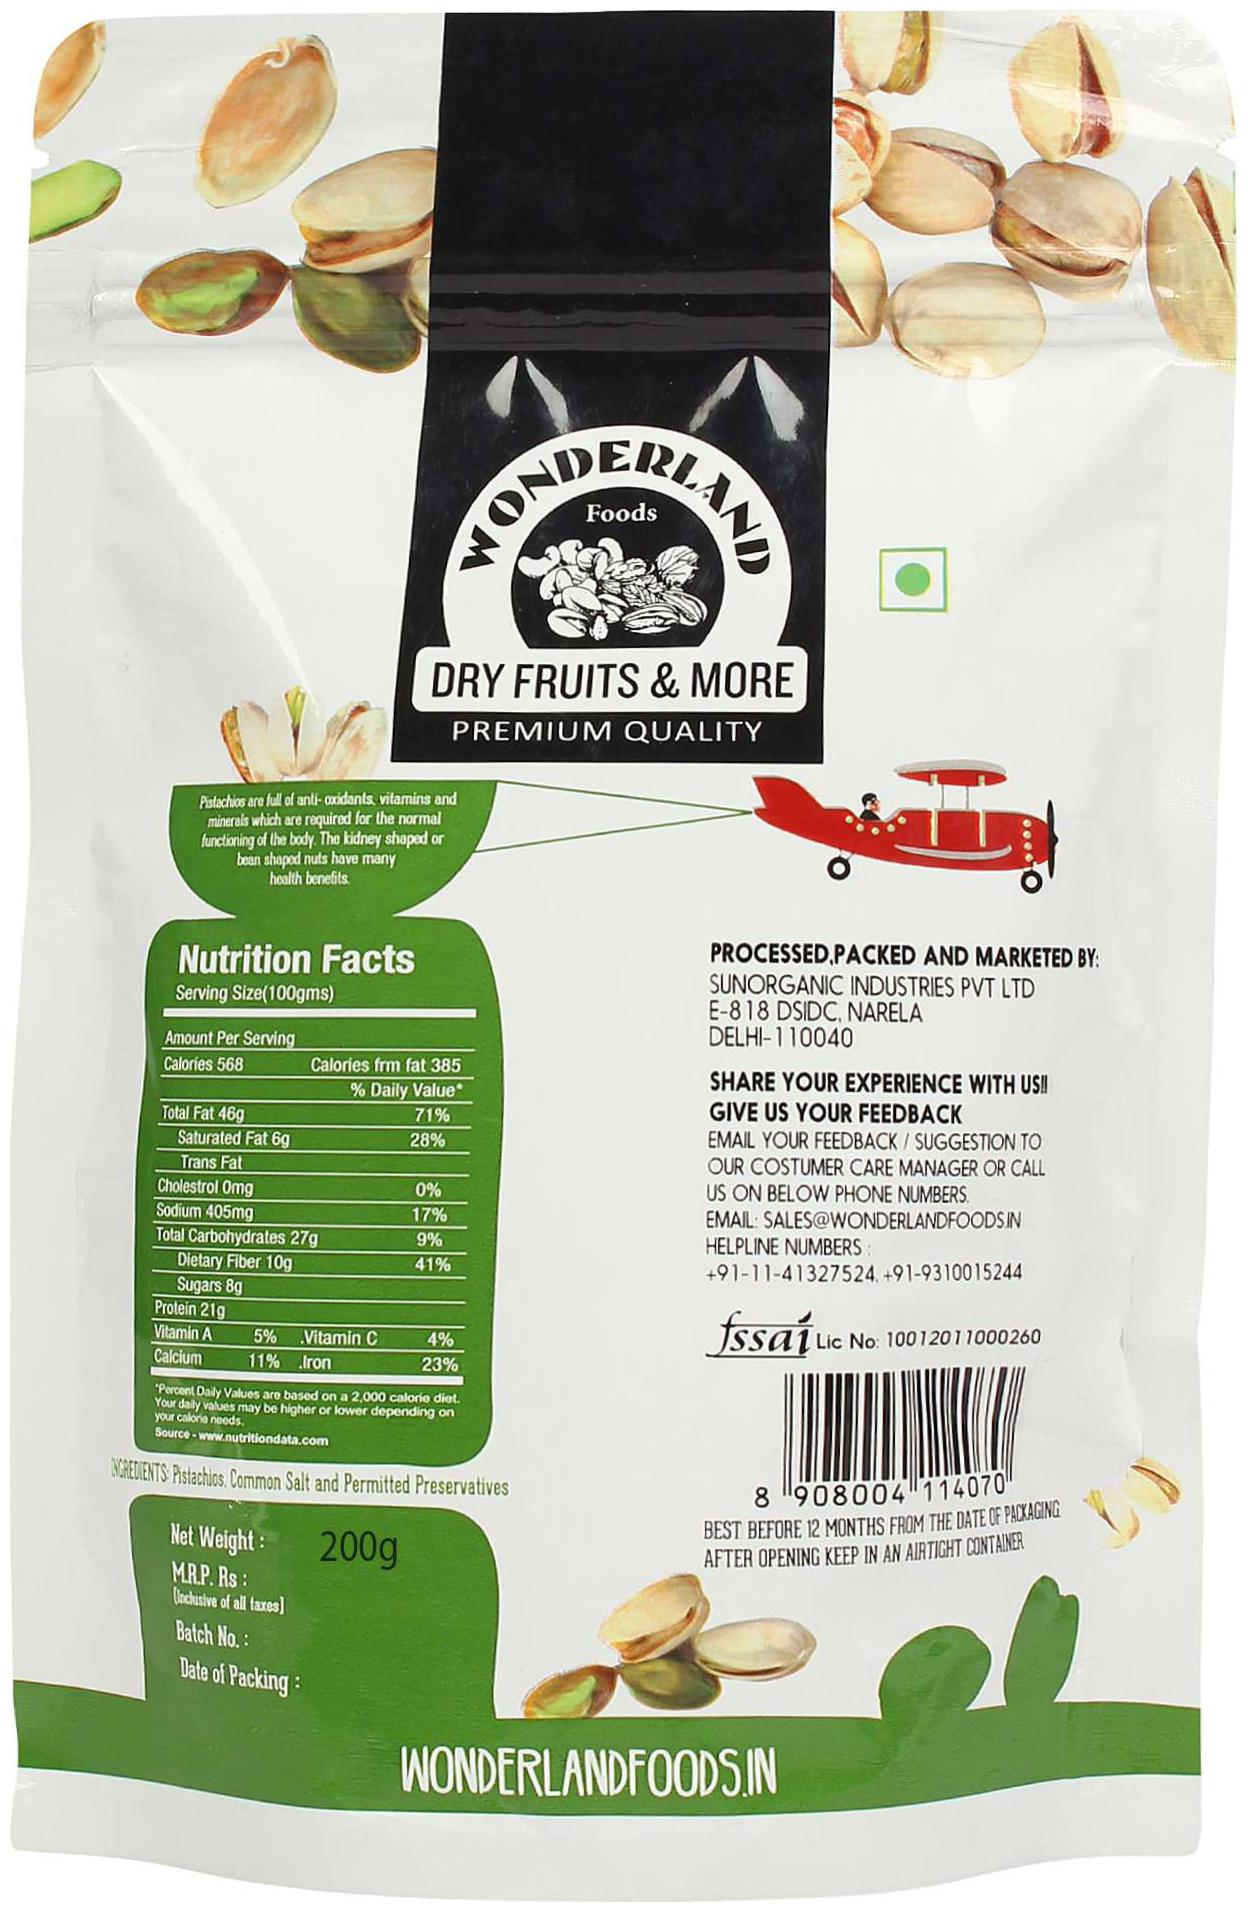fssai: (703, 1309, 813, 1360)
